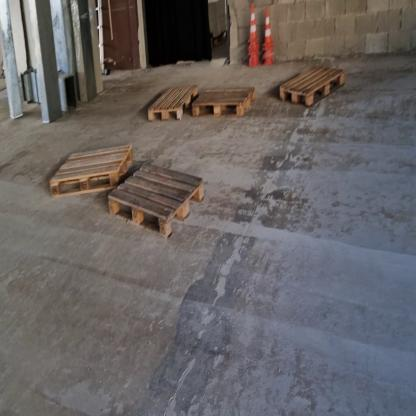BoxFace: (105, 153, 207, 247), (48, 140, 135, 203), (276, 60, 348, 115), (192, 82, 257, 124), (145, 80, 201, 127)
